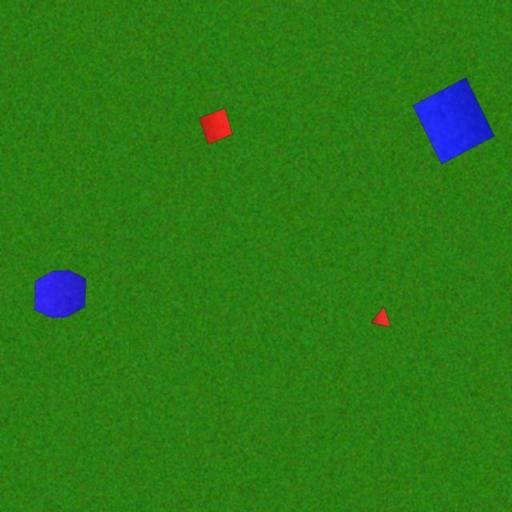BLUE_SQUARE: (412, 77, 495, 165)
RED_SQUARE: (198, 108, 233, 146)
